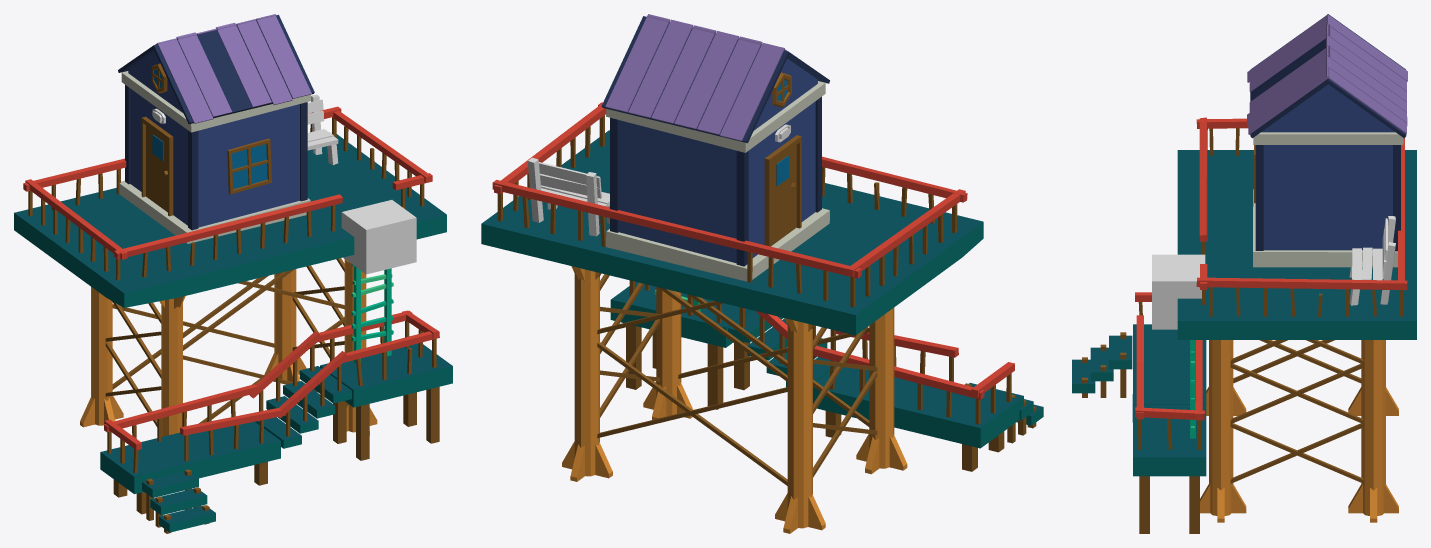
The model's file is Tower.fbx.
3 views of the same model, side by side, from view 1: azimuth 30°, elevation 25°; view 2: azimuth 150°, elevation 25°; view 3: azimuth 270°, elevation 25° (orthographic). The views are drawn at different scales.
Visible parts, largest first — view 1: Cube.009, Cube.010, Cube.027, Cube.085, Cube, Cube.066, Cube.008, Cube.012, Cube.077, Cube.084, Cube.067, Cylinder.001 (+15 smaller); view 2: Cube.009, Cube.010, Cube.085, Cube.027, Cube, Cylinder.001, Cylinder, Cylinder.003, Cube.050, Cube.102, Cube.049, Cube.048 (+10 smaller); view 3: Cube.009, Cube.010, Cube.085, Cube.027, Cylinder, Cylinder.002, Cube.049, Cube.008, Cube, Cube.012, Cube.066, Cube.005 (+10 smaller).
Part boxes in pixels (box(x1,y1,x2,y2)): Cube.009: box(14, 134, 446, 307); Cube.010: box(121, 51, 310, 227); Cube.027: box(23, 106, 432, 280); Cube.085: box(155, 14, 311, 123); Cube: box(100, 421, 280, 494); Cube.066: box(104, 310, 439, 450); Cube.008: box(320, 343, 452, 407); Cube.012: box(341, 200, 416, 274); Cube.077: box(113, 386, 439, 514); Cube.084: box(118, 14, 314, 124); Cube.067: box(107, 321, 436, 473); Cylinder.001: box(80, 287, 123, 427); Cube.009: box(481, 130, 983, 335); Cube.010: box(606, 58, 825, 263); Cube.085: box(605, 14, 786, 140); Cube.027: box(492, 102, 967, 307); Cube: box(813, 367, 1019, 448); Cylinder.001: box(775, 318, 825, 533); Cylinder: box(562, 266, 612, 481); Cylinder.003: box(856, 307, 907, 474); Cube.050: box(597, 294, 869, 485); Cube.102: box(606, 208, 829, 281); Cube.049: box(600, 274, 877, 477); Cube.048: box(764, 135, 801, 246); Cube.009: box(1177, 150, 1416, 339); Cube.010: box(1253, 84, 1403, 250); Cube.085: box(1247, 14, 1407, 134); Cube.027: box(1196, 117, 1407, 316); Cylinder: box(1348, 340, 1398, 522); Cylinder.002: box(1200, 340, 1246, 522); Cube.049: box(1230, 340, 1363, 483); Cube.008: box(1133, 404, 1206, 476); Cube: box(1133, 324, 1206, 393); Cube.012: box(1152, 254, 1205, 329); Cube.066: box(1135, 292, 1204, 420); Cube.005: box(1072, 335, 1132, 393).
Size of the model in its own units: 2471 by 2733 by 2038.
1 material, 1 textured.
